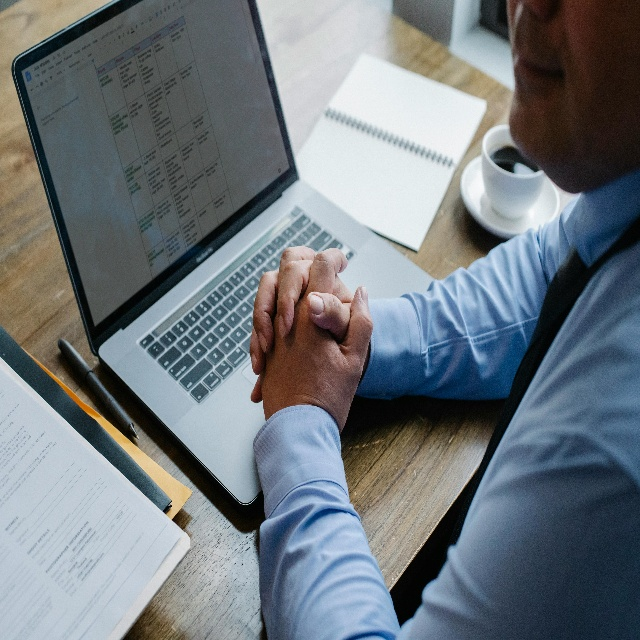Sin_guantes: (249, 240, 374, 434), (249, 238, 376, 408)
